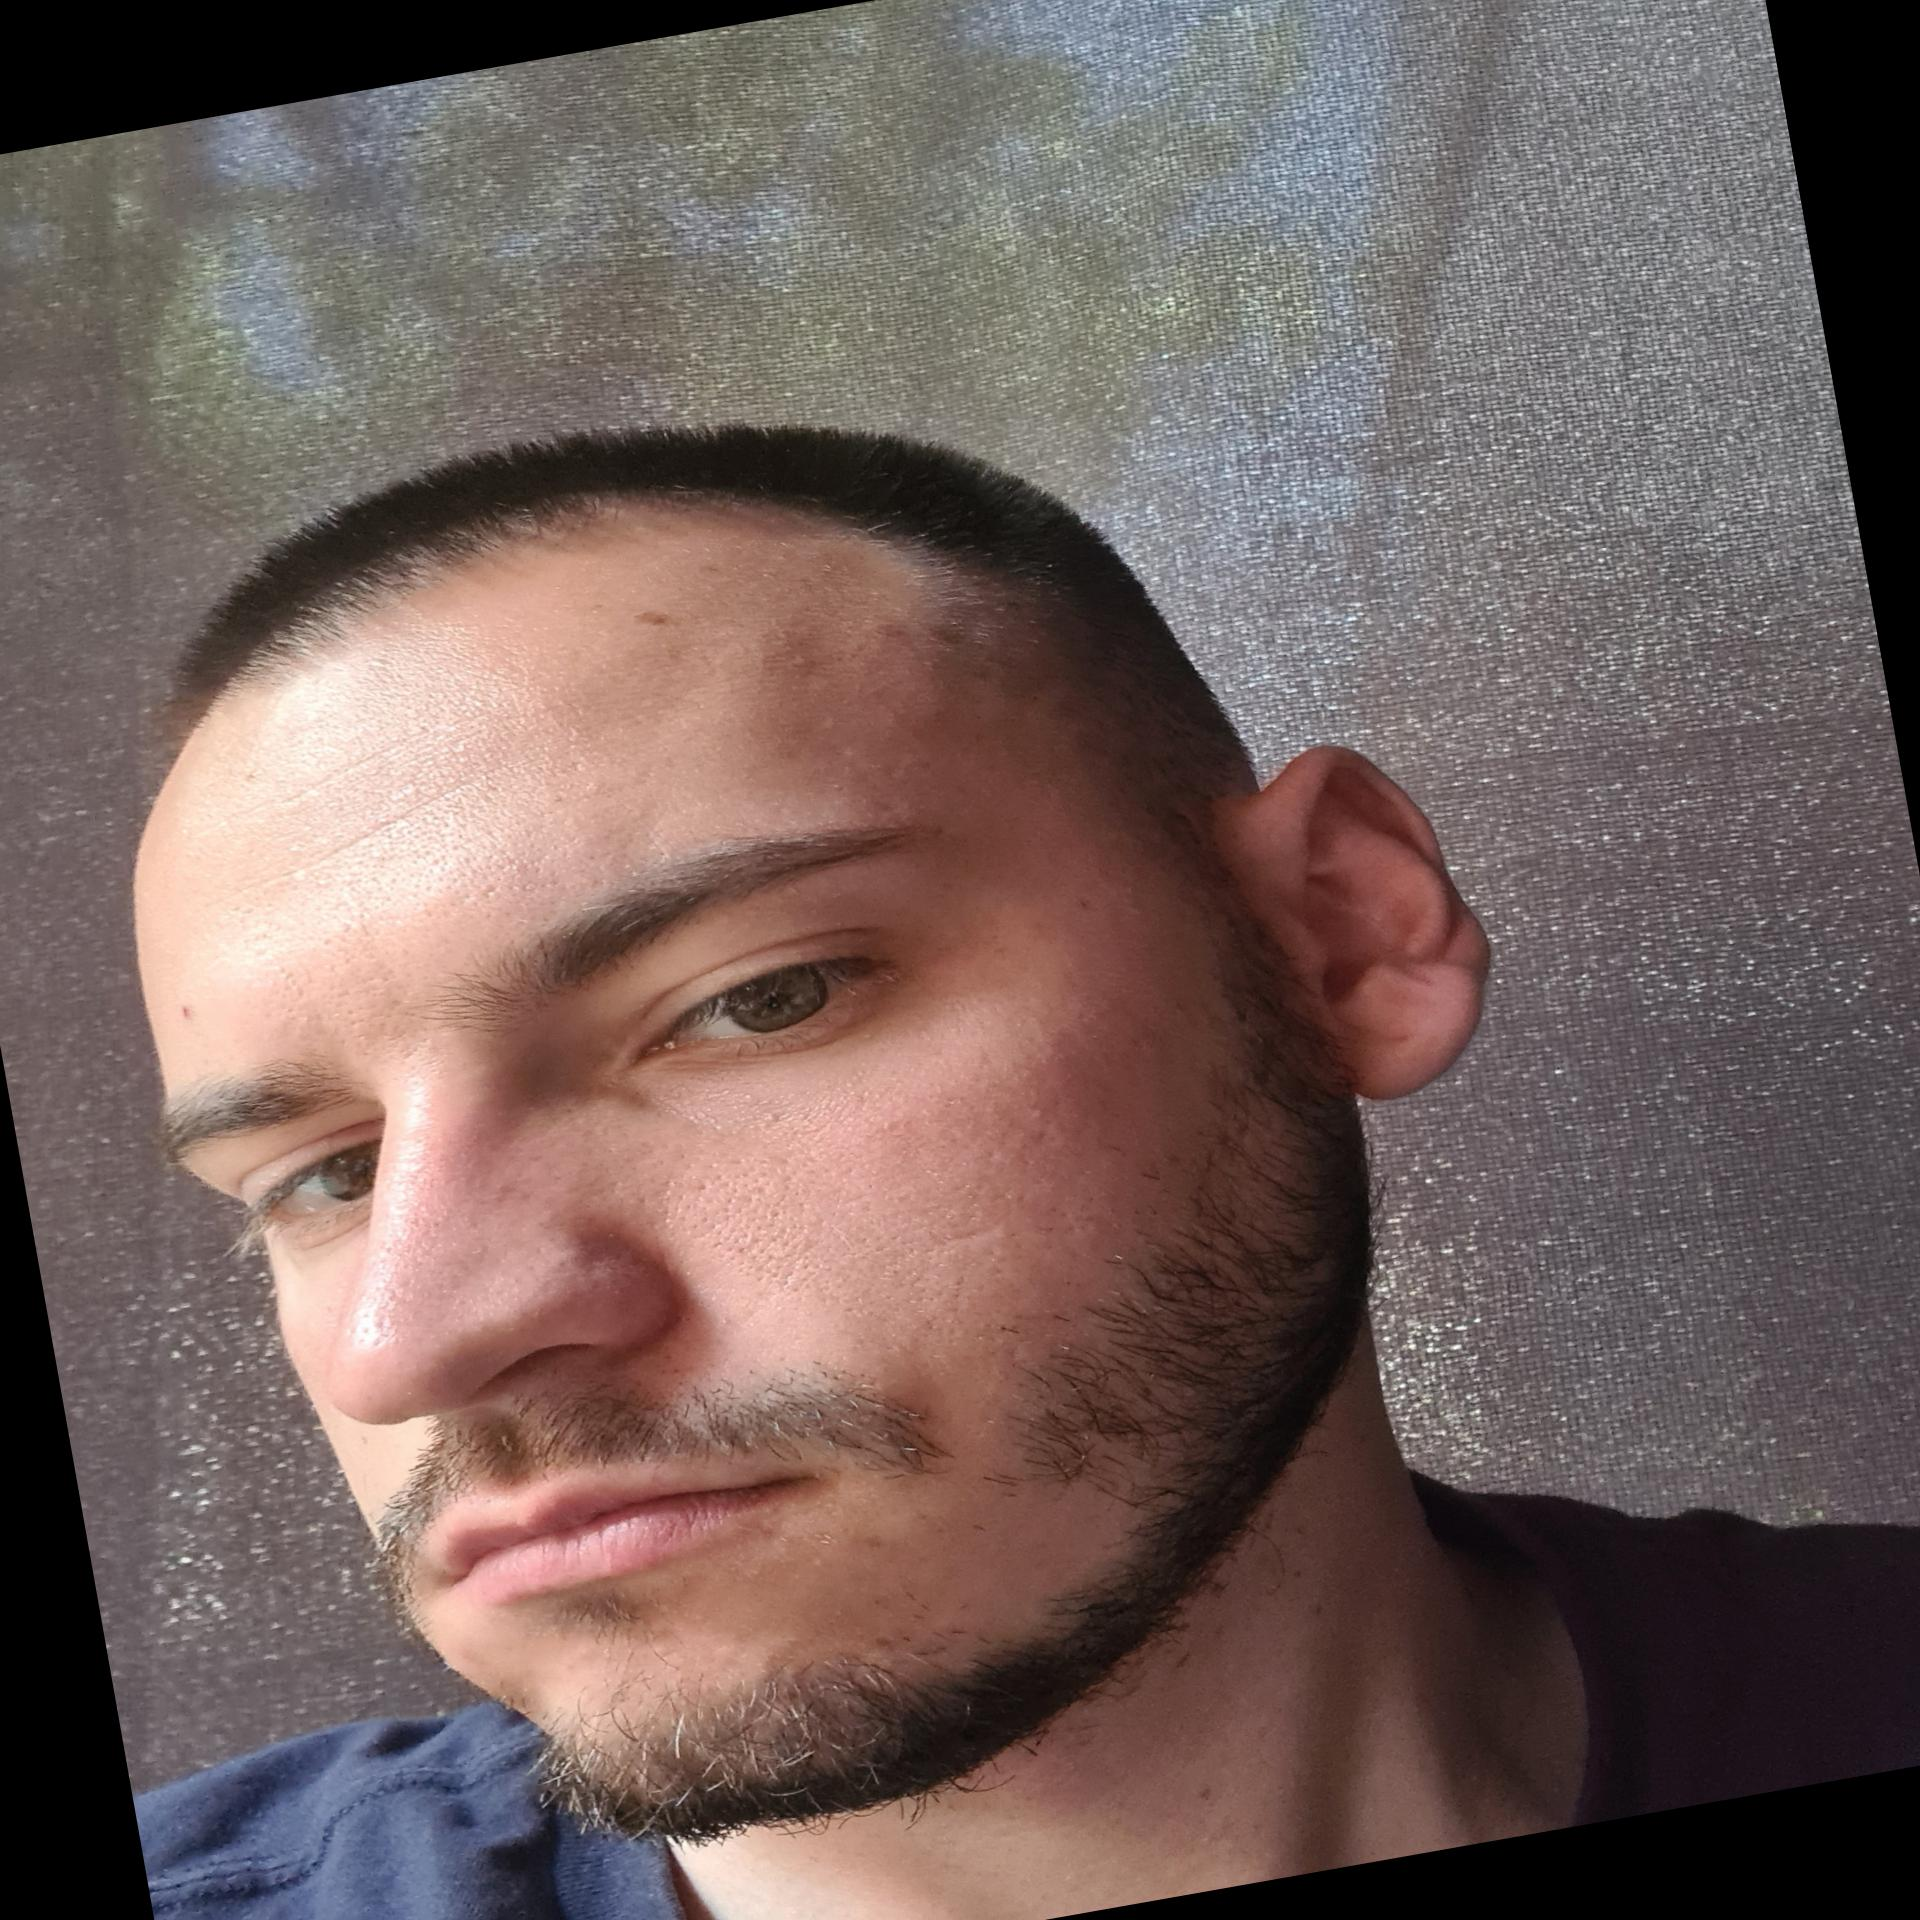Englarged Pores: (654, 1131, 874, 1327), (320, 1169, 513, 1363), (341, 872, 564, 979), (367, 782, 533, 898), (250, 851, 367, 1004)
